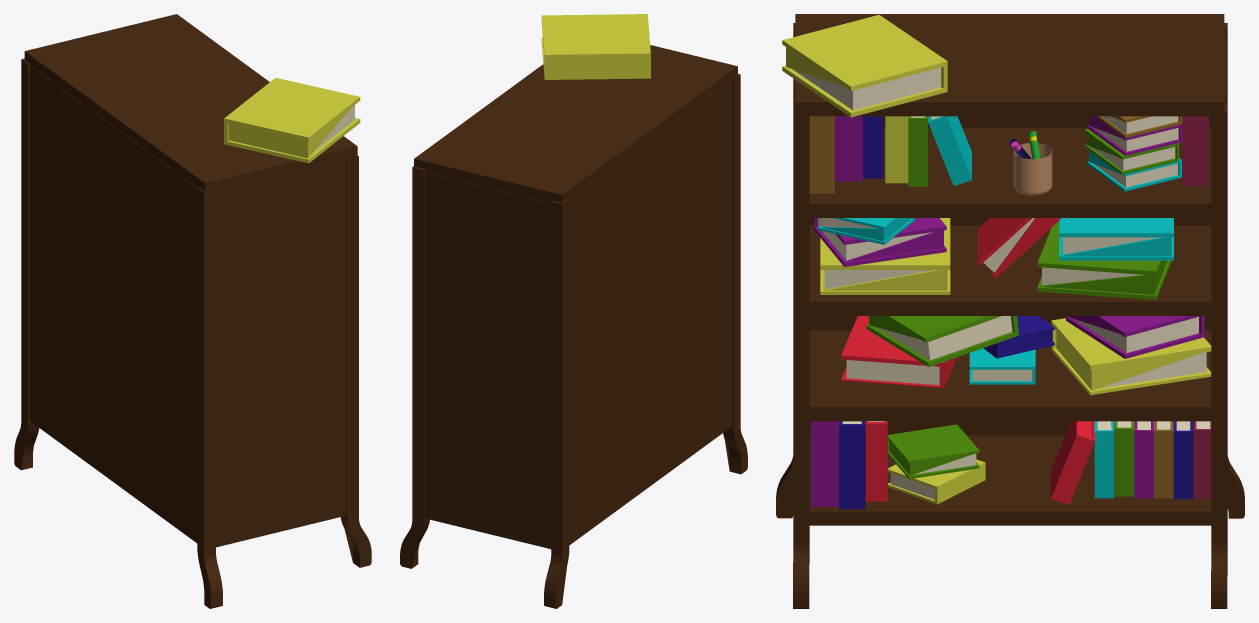
The model's file is etagere.glb.
3 views of the same model, side by side, from view 1: azimuth 30°, elevation 25°; view 2: azimuth 150°, elevation 25°; view 3: azimuth 270°, elevation 25° (orthographic). The views are drawn at different scales.
Visible parts, largest first — view 1: model; view 2: model; view 3: model.
Part boxes in pixels (x1,y1,x2,y2): model: (14,14,371,608); model: (400,14,747,608); model: (776,14,1244,608).
Bounding box in the file's own units: 31.84 × 75.3 × 60.24.
